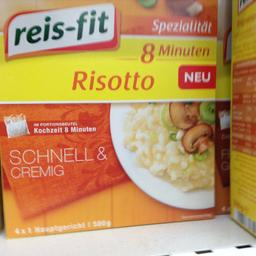rice: (0, 0, 217, 238)
